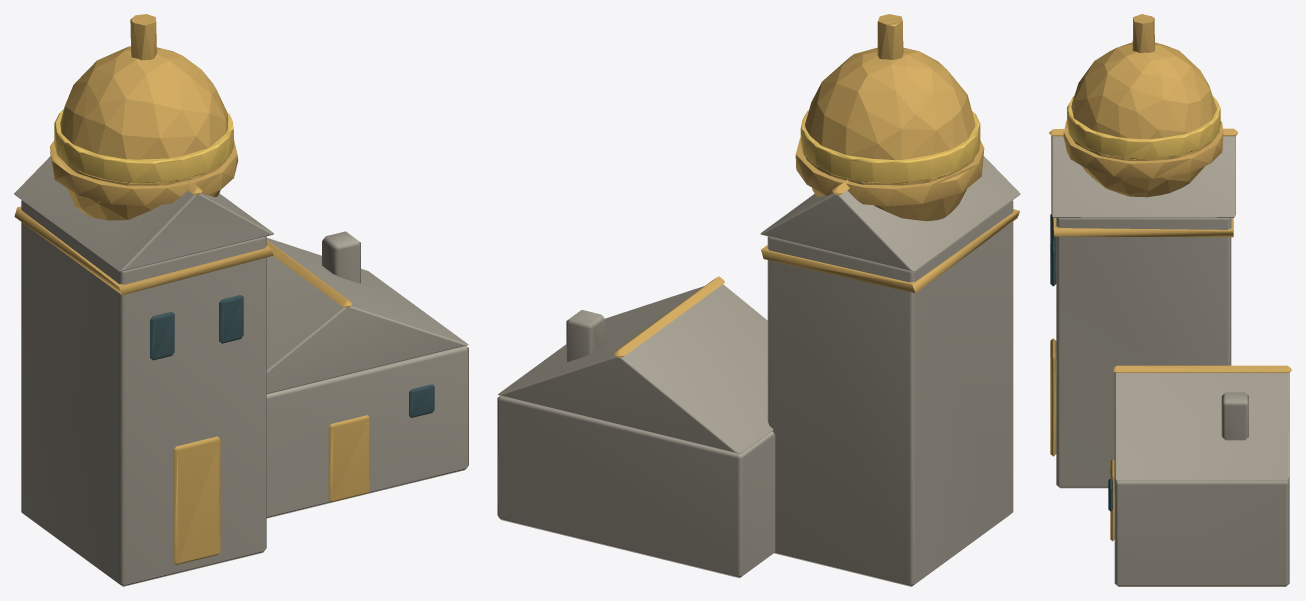
The model's file is default_capital_guilds.glb.
The picture shows the model from 3 angles, left to right: view 1: azimuth 30°, elevation 25°; view 2: azimuth 150°, elevation 25°; view 3: azimuth 270°, elevation 25°; orthographic projection. The views are drawn at different scales.
Visible parts, largest first — view 1: WoodBody, BrassTrim, FixedDetails; view 2: WoodBody, BrassTrim, FixedDetails; view 3: WoodBody, BrassTrim, FixedDetails.
Boxes of the visible parts, box(x1,y1,x2,y2) form: WoodBody: box(14, 156, 468, 586); BrassTrim: box(14, 14, 369, 564); FixedDetails: box(54, 109, 434, 417); WoodBody: box(497, 156, 1020, 586); BrassTrim: box(613, 14, 1019, 357); FixedDetails: box(800, 110, 980, 183); WoodBody: box(1051, 135, 1289, 586); BrassTrim: box(1049, 14, 1291, 541); FixedDetails: box(1050, 96, 1220, 511).
Bounding box in the file's own units: 0.3973 × 0.4996 × 0.249.
